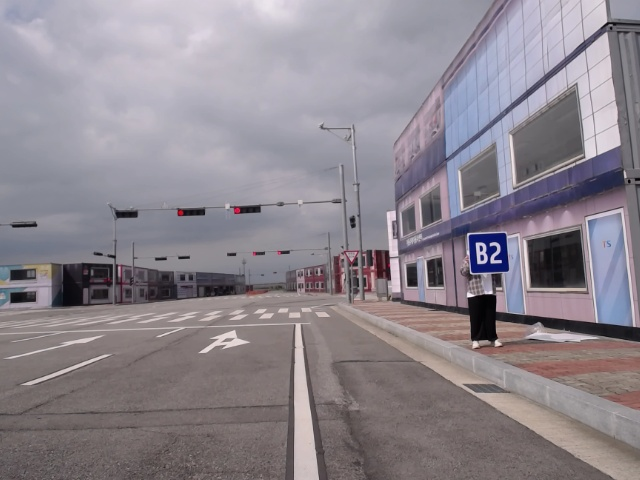delivery_b2: (466, 230, 513, 276)
red_4: (232, 204, 263, 215), (176, 206, 206, 217), (275, 249, 292, 257), (251, 250, 267, 257)
